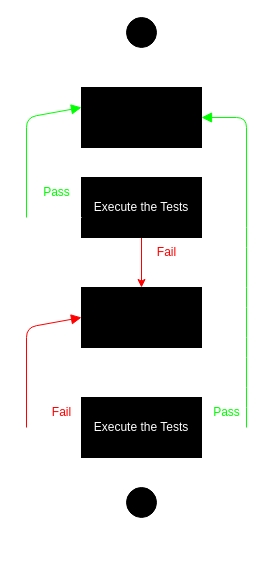
The diagram is 274 pixels wide and 585 high, and some of its shapes have lost their labels. The centre of each missing label's shape, as x and y in pixels:
"Add Tests" belongs at [141,117].
"Make Changes to the Code (Refactoring)" belongs at [141,317].
